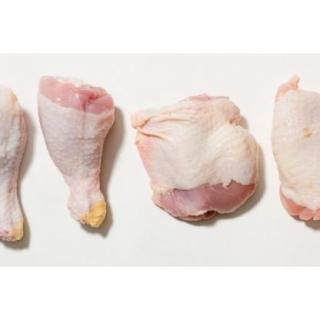Ayam: (130, 96, 260, 221), (39, 78, 114, 229), (276, 81, 320, 223)
